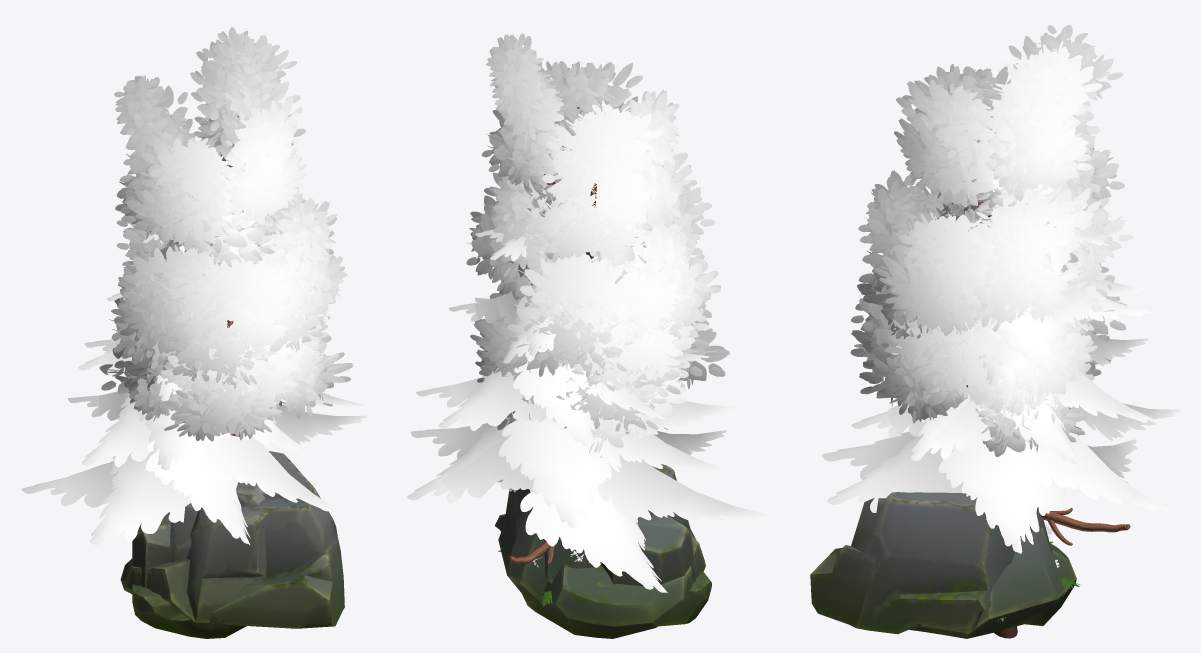
The model's file is megakit.glb.
3 views of the same model, side by side, from view 1: azimuth 30°, elevation 25°; view 2: azimuth 150°, elevation 25°; view 3: azimuth 270°, elevation 25° (orthographic). The views are drawn at different scales.
Parts seen in each view (by area): view 1: CommonTree_3, CommonTree_1, Pine, Rock_Medium_3, Rock_Medium_1, CommonTree_5; view 2: Pine, CommonTree_3, CommonTree_1, CommonTree_5, Rock_Medium_1, Rock_Medium_3; view 3: CommonTree_3, Pine, CommonTree_1, Rock_Medium_3, CommonTree_5, Rock_Medium_1.
Part boxes in pixels (x1,y1,x2,y2): CommonTree_3: [114, 26, 347, 437]; CommonTree_1: [99, 164, 353, 441]; Pine: [21, 177, 366, 544]; Rock_Medium_3: [132, 451, 344, 638]; Rock_Medium_1: [120, 482, 268, 622]; CommonTree_5: [115, 220, 327, 436]; Pine: [407, 202, 773, 593]; CommonTree_3: [470, 33, 715, 401]; CommonTree_1: [466, 173, 729, 434]; CommonTree_5: [489, 189, 709, 457]; Rock_Medium_1: [498, 464, 705, 638]; Rock_Medium_3: [495, 488, 711, 626]; CommonTree_3: [855, 24, 1124, 638]; Pine: [822, 152, 1180, 553]; CommonTree_1: [850, 179, 1126, 630]; Rock_Medium_3: [810, 492, 1053, 634]; CommonTree_5: [865, 187, 1133, 405]; Rock_Medium_1: [909, 527, 1076, 638].
Size of the model in its own units: 5.73 by 9.5 by 5.28.
8 materials, 8 textured.
